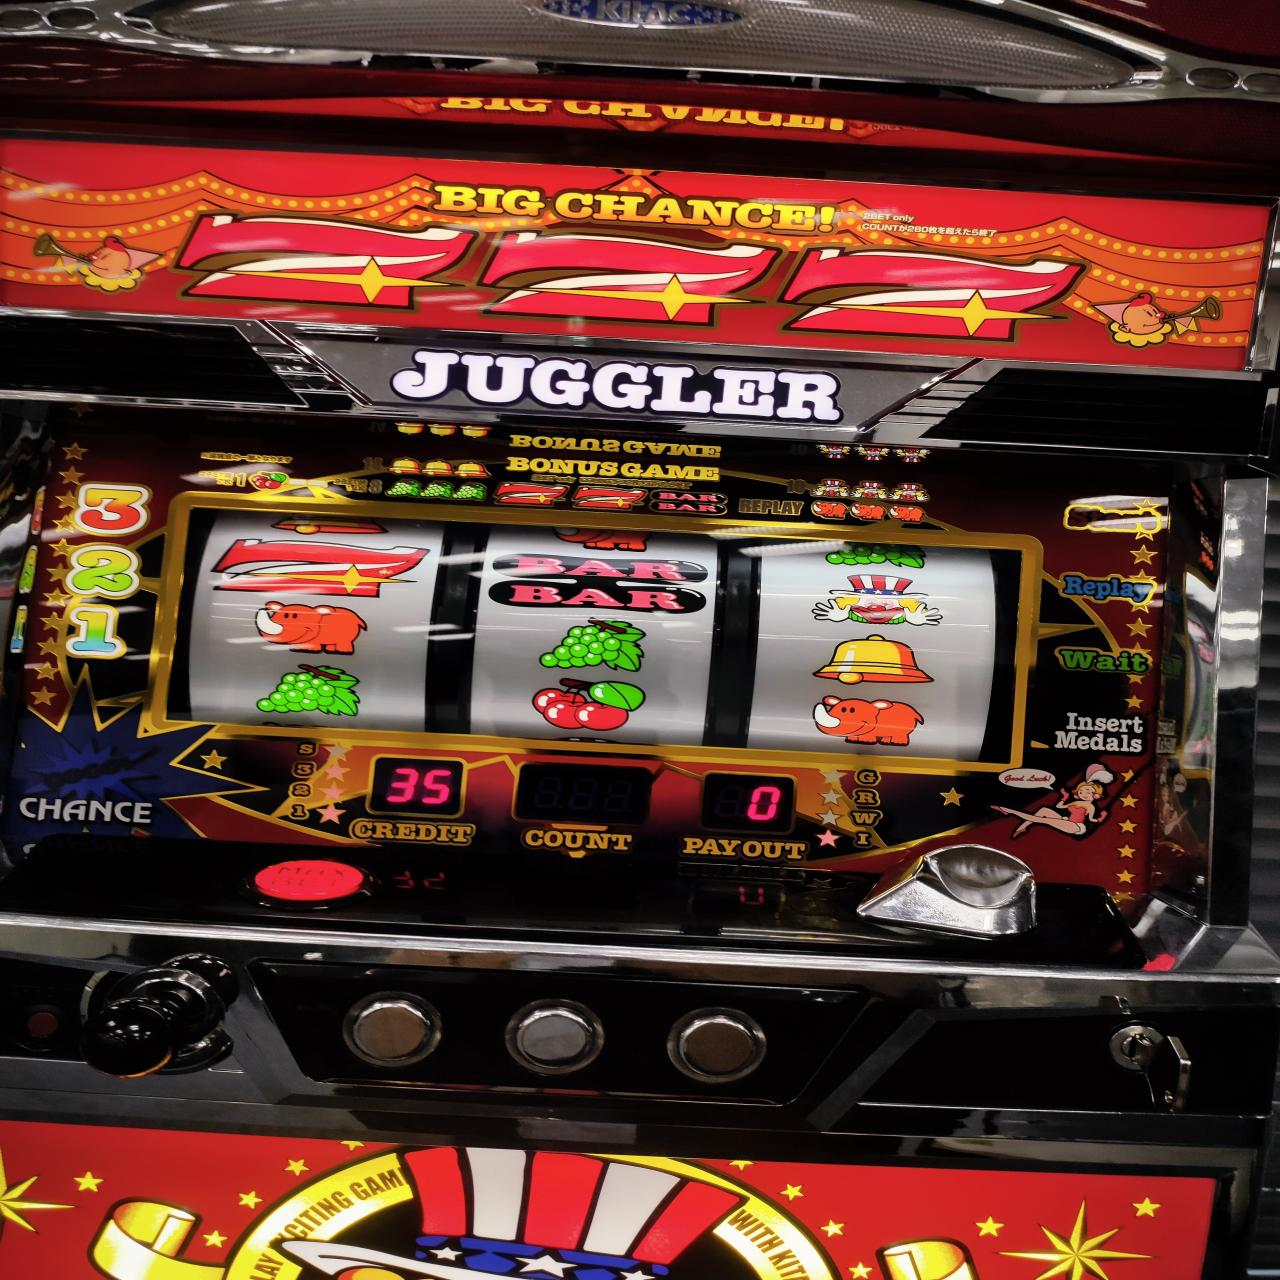7: (210, 536, 424, 601)
8: (253, 602, 367, 655), (815, 694, 924, 747)
Display: (169, 502, 1019, 769)
bar: (490, 552, 714, 617)
bell: (815, 635, 934, 686)
cherry: (527, 676, 641, 729)
clown: (804, 572, 947, 625)
grape: (535, 617, 648, 670), (257, 662, 363, 719)
